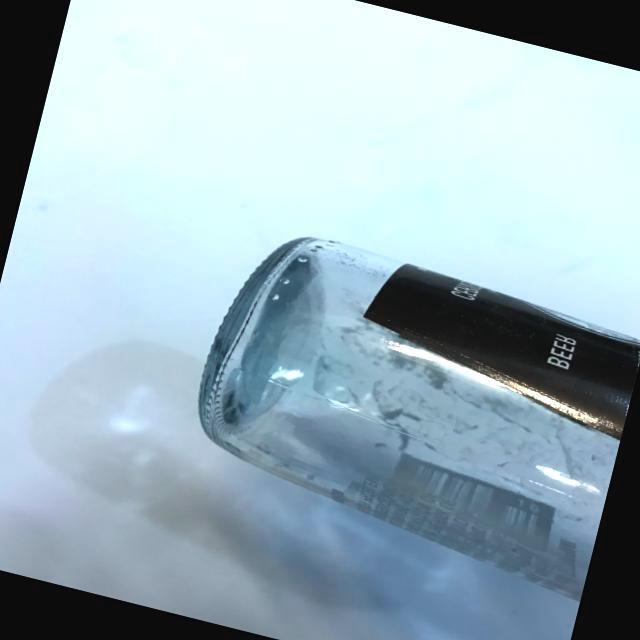glass: (158, 205, 640, 611)
